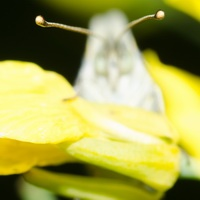insect: (74, 10, 164, 113)
